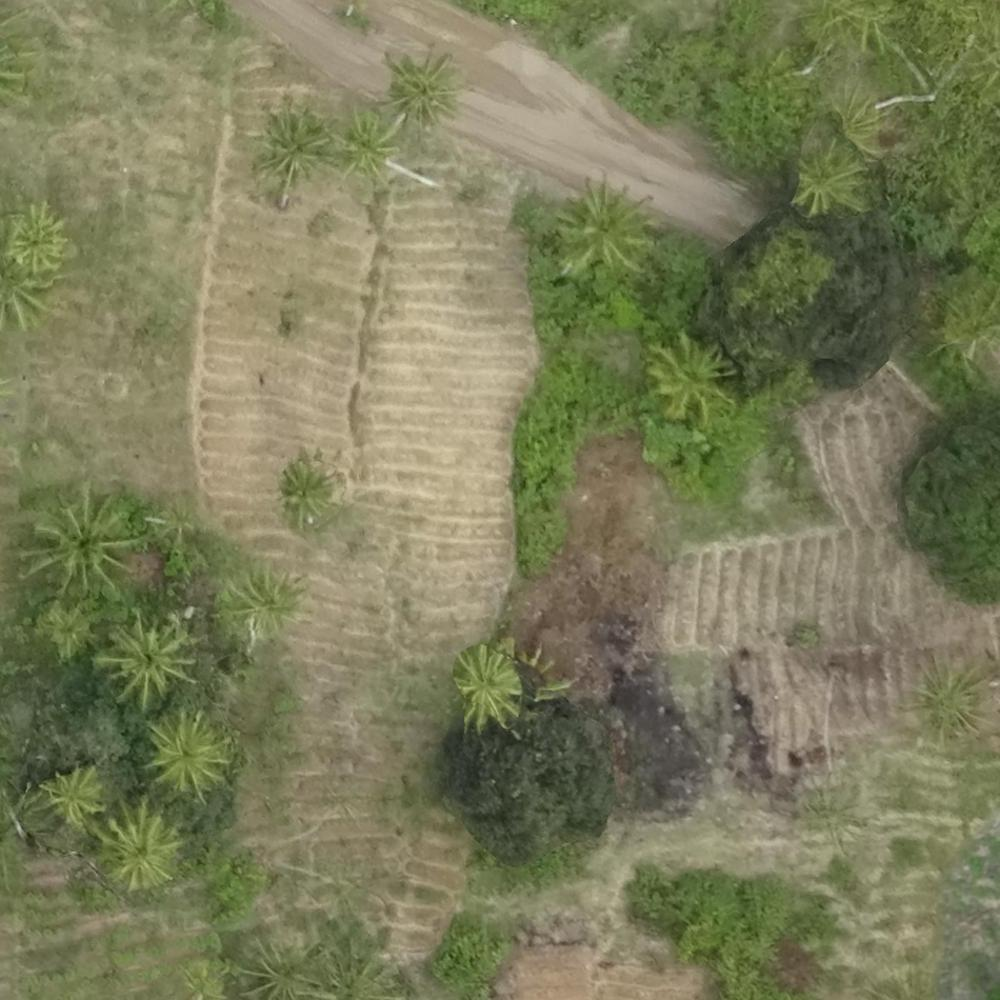Palm: (27, 491, 135, 591), (557, 183, 649, 274), (94, 623, 193, 704), (97, 812, 181, 890), (905, 659, 990, 736), (381, 48, 464, 126), (647, 339, 730, 417), (254, 106, 333, 186), (141, 719, 229, 790), (448, 648, 529, 722), (329, 109, 407, 179), (214, 567, 298, 630), (796, 145, 865, 211), (5, 208, 70, 276), (274, 460, 335, 525), (40, 766, 109, 823)
